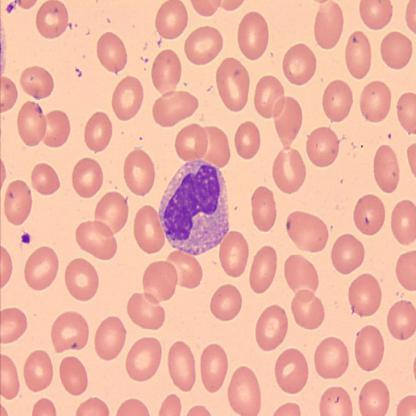Monocyte: (158, 157, 232, 257)
